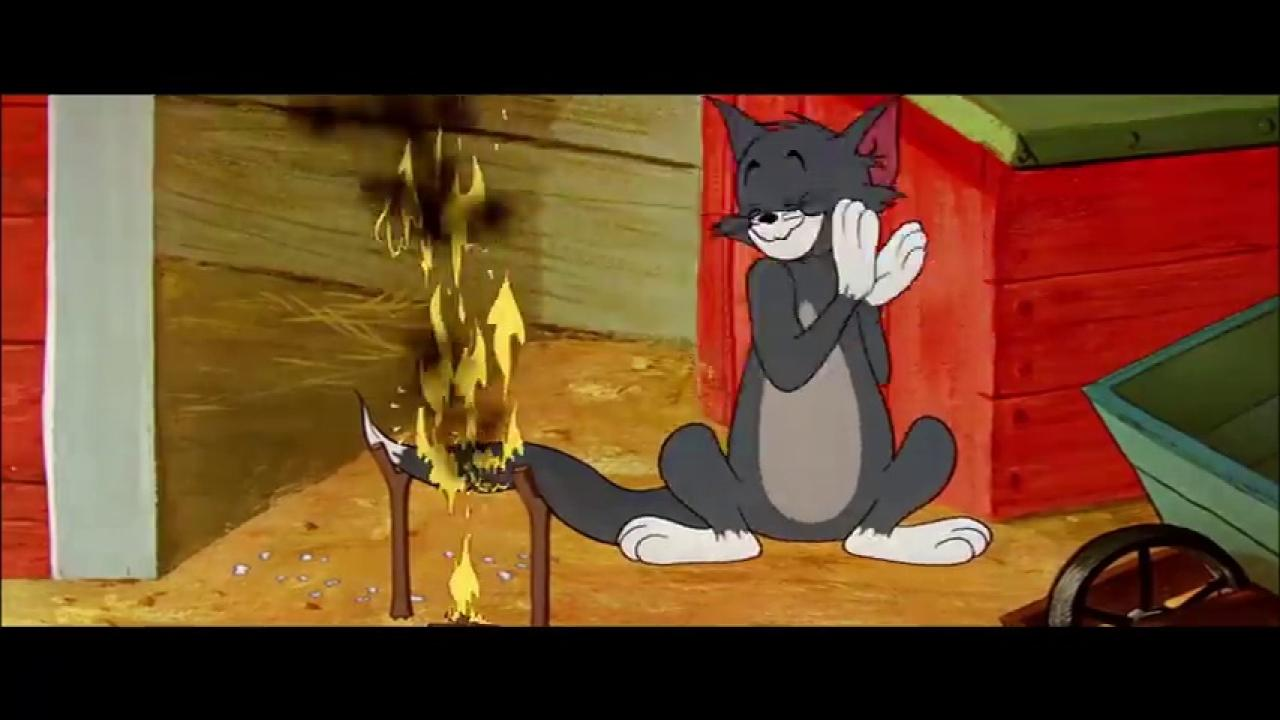Tom: (348, 94, 996, 567)
